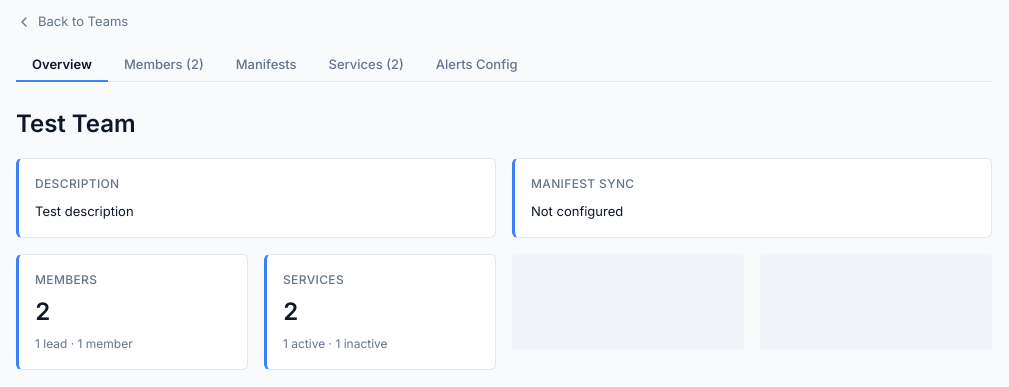
Test case: TeamDetail › tabs › switches tab content when clicking a tab
expect the heading "Test Team" is shown: met, box [16,106,136,142]
Click the tab "Members (2)" at (164, 64), box [108,48,220,82]
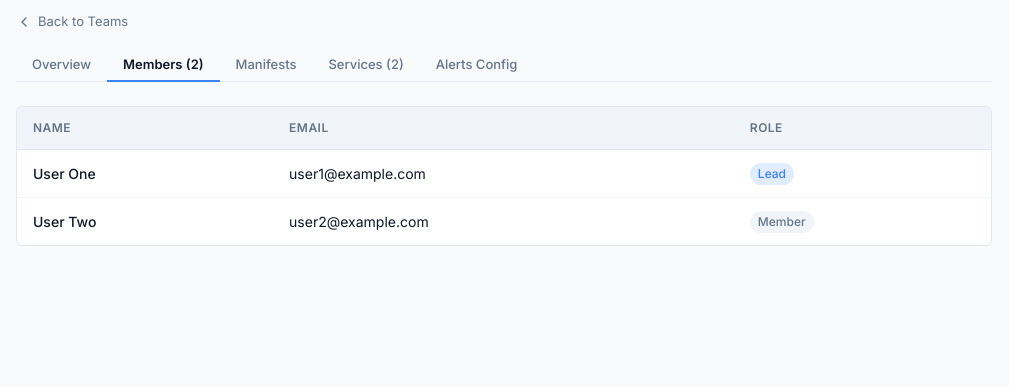
expect the text "User One" is shown: met, box [17,149,273,197]
expect the text "user1@example.com" is shown: met, box [273,149,734,197]
